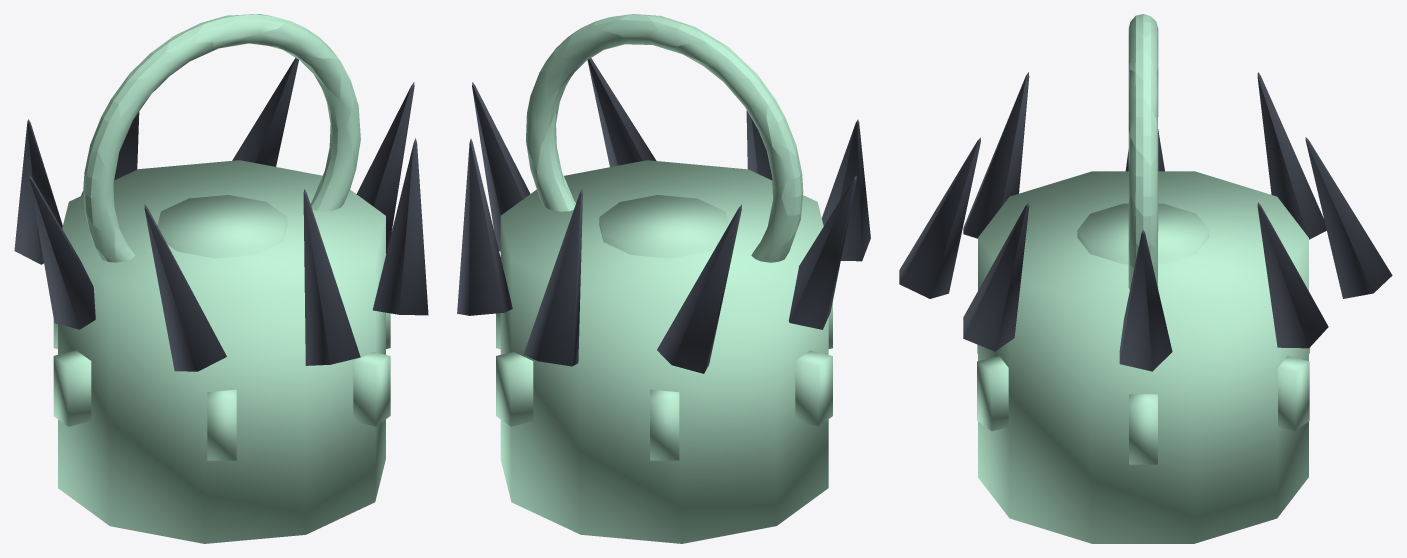
File: SM_Boss_Bergbahn_LOD2.fbx
3 views of the same model, side by side, from view 1: azimuth 30°, elevation 25°; view 2: azimuth 150°, elevation 25°; view 3: azimuth 270°, elevation 25° (orthographic).
Parts seen in each view (by area): view 1: SM_Boss_Bergbahn_LOD2; view 2: SM_Boss_Bergbahn_LOD2; view 3: SM_Boss_Bergbahn_LOD2.
Part boxes in pixels (x1=…): SM_Boss_Bergbahn_LOD2: x1=14, y1=14, x2=428, y2=543; SM_Boss_Bergbahn_LOD2: x1=457, y1=14, x2=870, y2=543; SM_Boss_Bergbahn_LOD2: x1=899, y1=14, x2=1392, y2=543.
Bounding box in the file's own units: 3.27 × 3.76 × 3.68.
